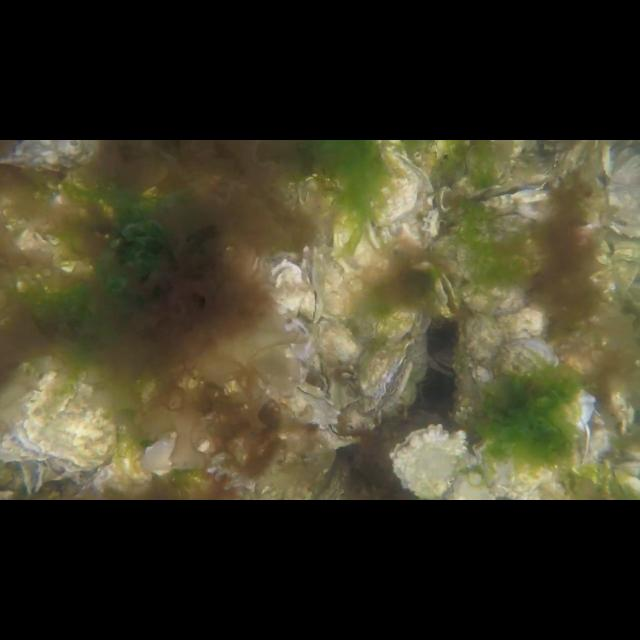Oyster-Closed: (11, 370, 113, 472), (490, 338, 596, 428), (472, 434, 568, 498), (364, 140, 422, 226), (330, 205, 386, 292), (462, 310, 506, 408), (260, 382, 342, 431), (0, 140, 94, 172), (322, 242, 358, 320), (318, 318, 362, 380), (458, 278, 528, 314), (604, 256, 640, 296), (143, 431, 175, 475)
Oyster-Open: (390, 423, 468, 499), (464, 182, 560, 232), (360, 338, 416, 410), (374, 298, 432, 346), (266, 258, 302, 322), (300, 245, 324, 323), (318, 422, 364, 452), (434, 272, 460, 318), (295, 362, 329, 396), (590, 140, 612, 190)
